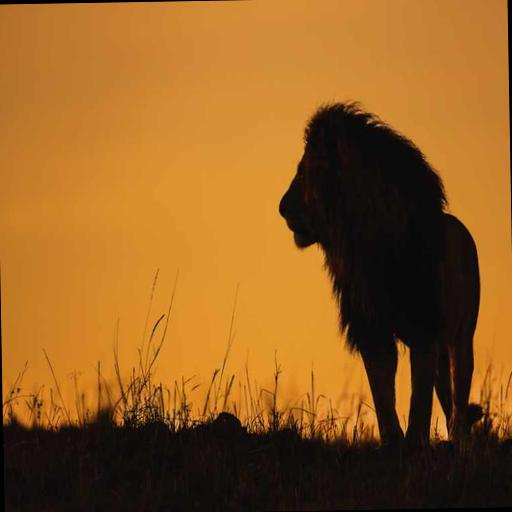lions: (245, 96, 512, 484)
